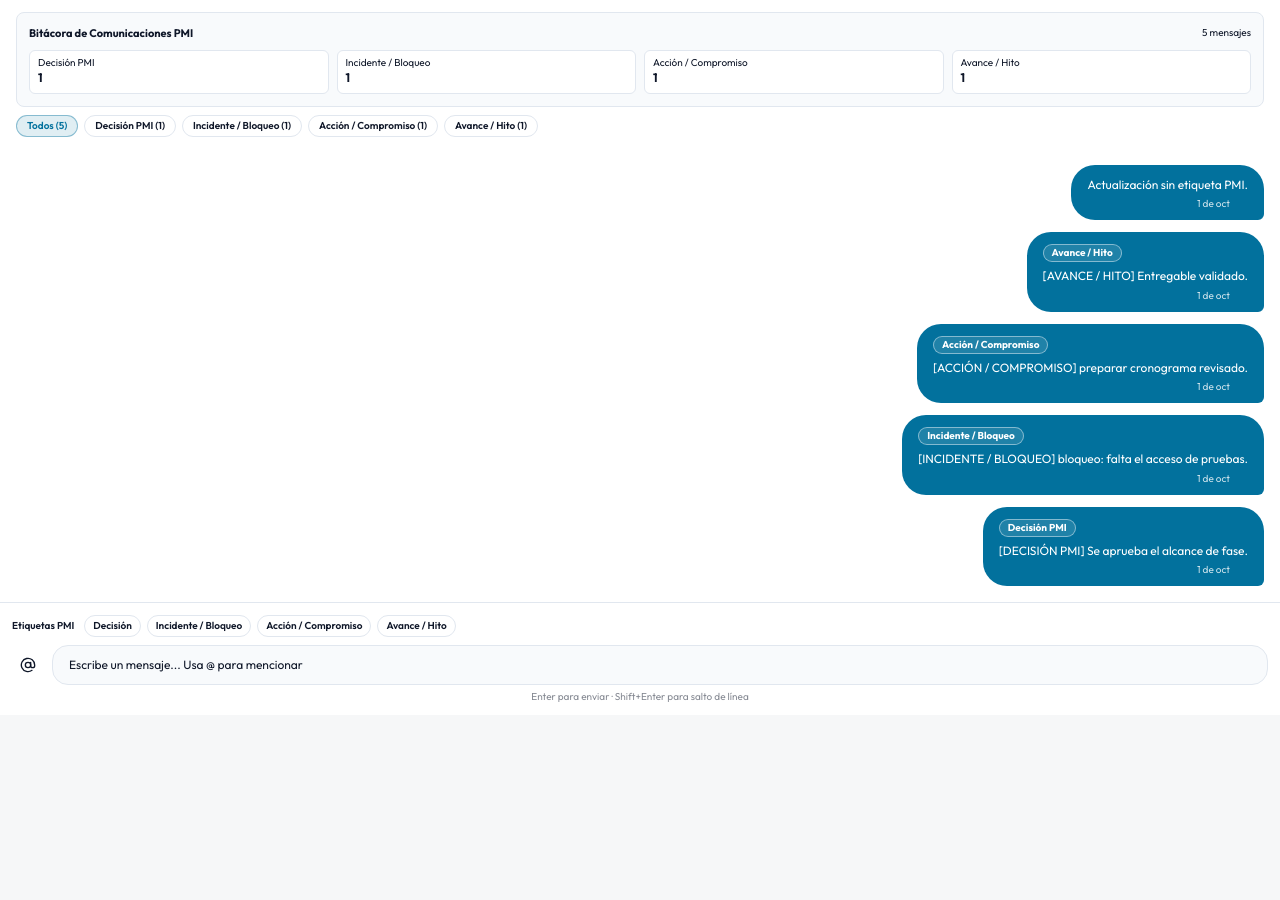
Test: ProjectChatPanel action access › counts PMI communication categories, displays semantic badges, and filters visible messages
Expected: the element with test id "chat-pmi-comms-summary" shows "5 mensajes", [16,12,1264,106]
Expected: the text with test id "chat-pmi-count-decision" reads "1", [38,70,42,84]
Click the button with test id "chat-pmi-filter-issue" at (242, 126), box [182,114,302,136]
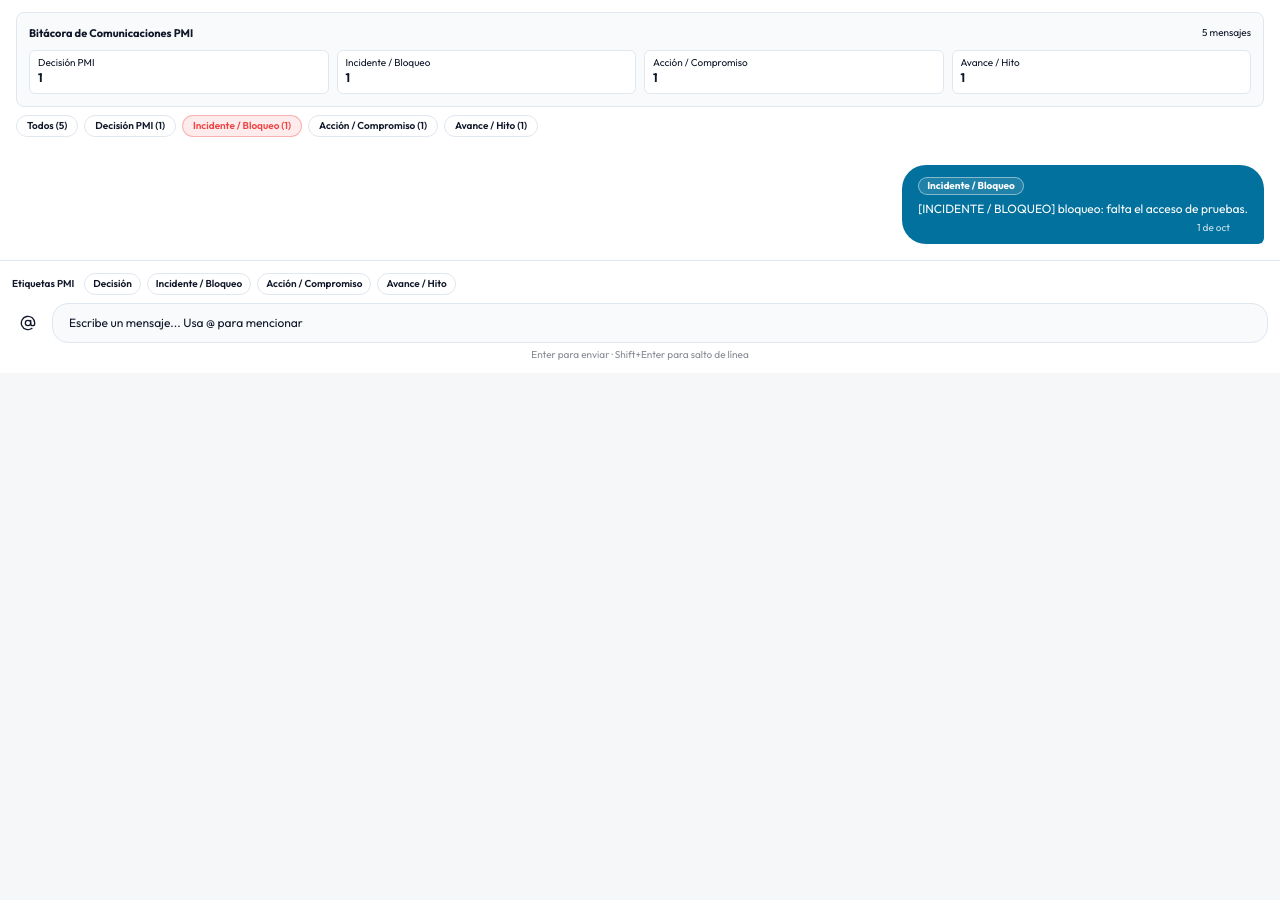
Expected: the text "[INCIDENTE / BLOQUEO] bloqueo: falta el acceso de pruebas." is shown, [918,198,1248,218]
Result: the text "[DECISIÓN PMI] Se aprueba el alcance de fase." is gone
Result: the text "Actualización sin etiqueta PMI." is gone
Click the button with test id "chat-pmi-filter-all" at (47, 126), box [16,114,78,136]
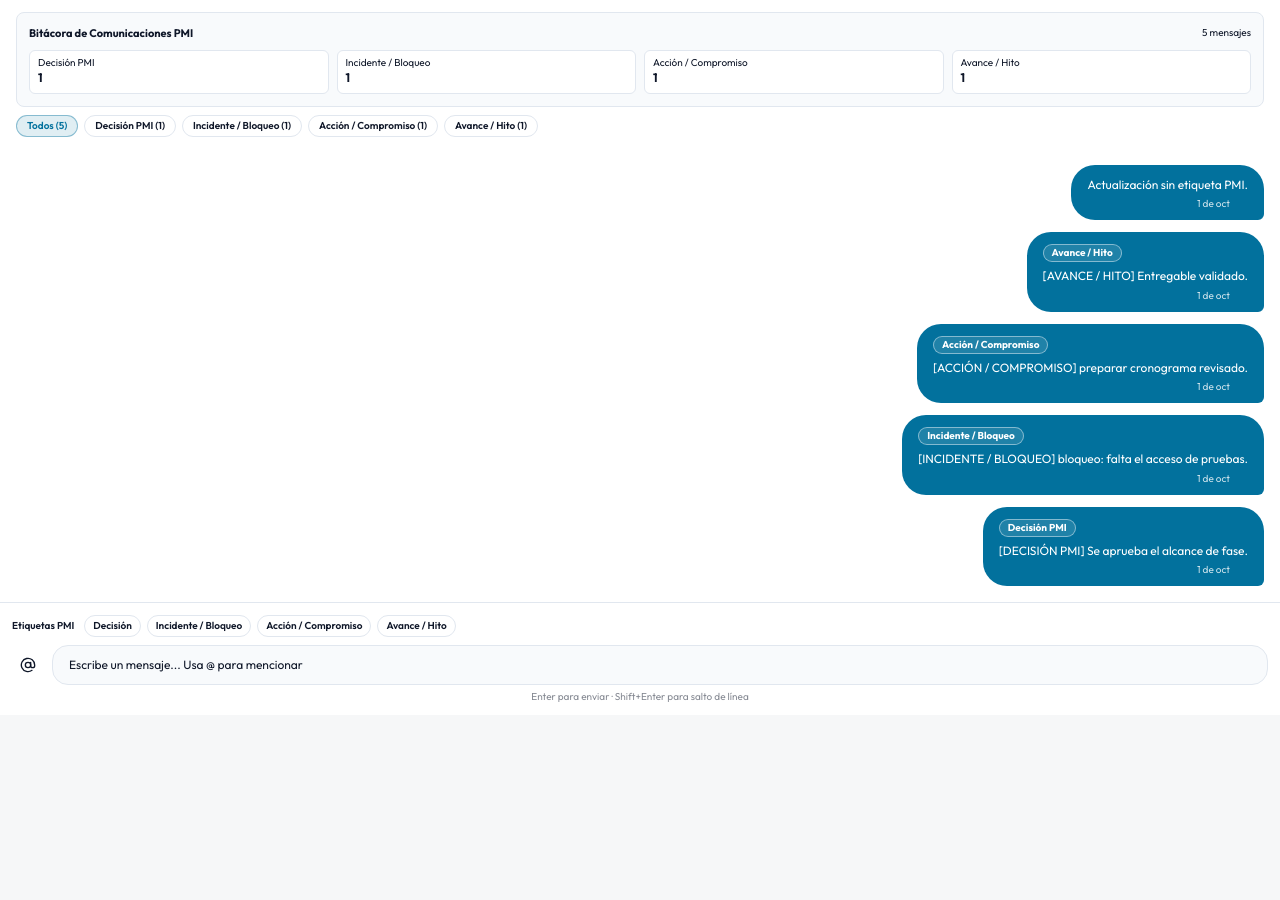
Result: the text "[DECISIÓN PMI] Se aprueba el alcance de fase." is shown at [999,540,1248,560]
Result: the text "Actualización sin etiqueta PMI." is shown at [1087,174,1248,194]
